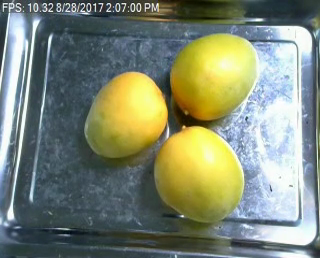Mango: (151, 123, 243, 224), (170, 32, 262, 122), (83, 69, 167, 157)
